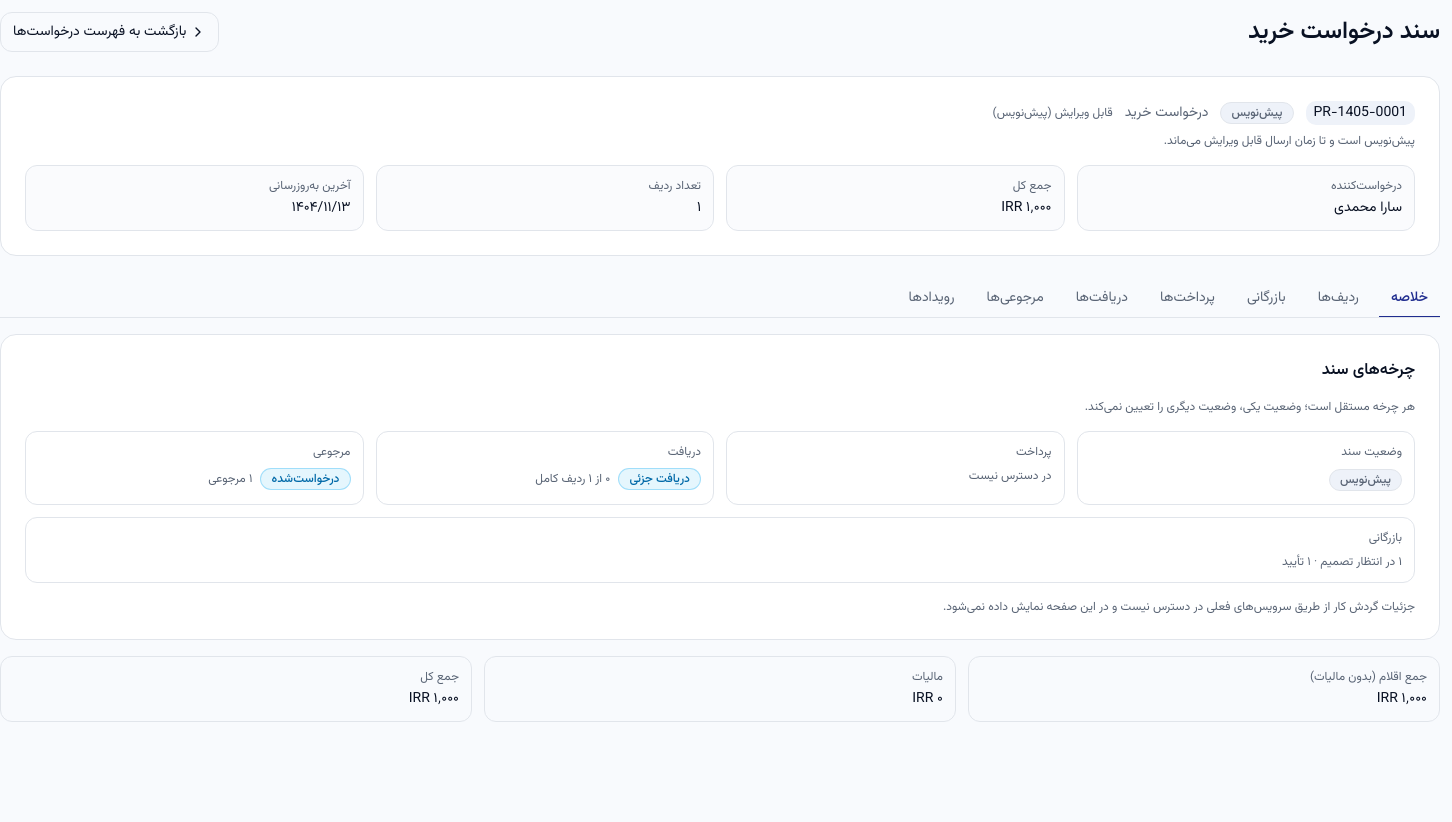
CommercePurchaseDetailView › keeps one section failure inside that section: the document and the rest survive
The image size is (1452, 822).
Expected: the element with test id "commerce-detail-identity" is shown, [0, 76, 1440, 256]
Expected: the text "دریافت جزئی" is shown, [618, 468, 701, 490]
Note: Its own tab renders the full section.
Click the tab with test id "commerce-detail-tab-receipts". click: (1102, 299)
box: [1064, 280, 1140, 318]
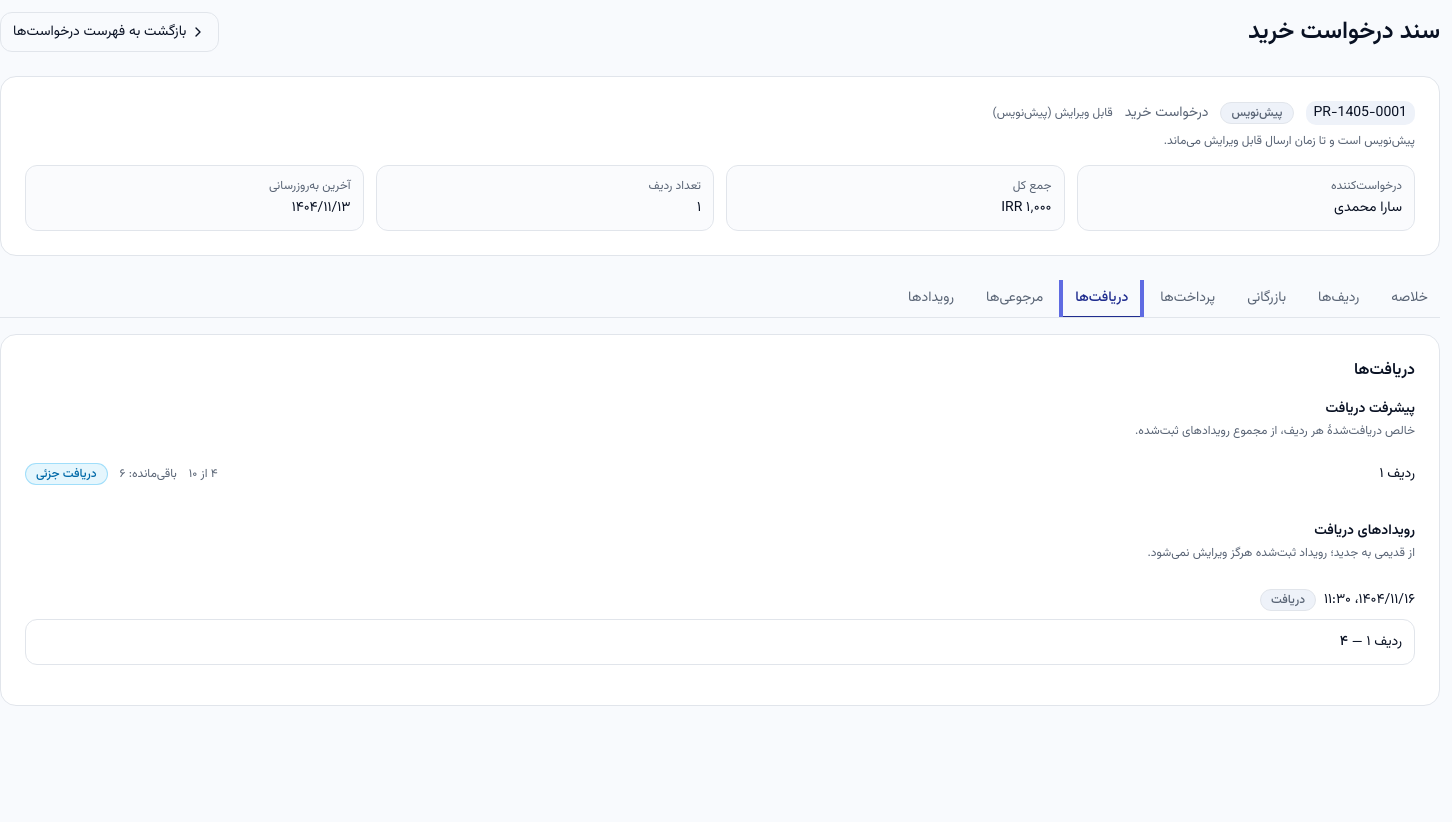
Expected: the list with test id "commerce-receiving-progress" is shown, [25, 463, 1415, 485]
Note: The failing tab carries its OWN retry, and the document stays on screen.
Click the tab with test id "commerce-detail-tab-payments". click: (1188, 299)
box: [1148, 280, 1227, 318]
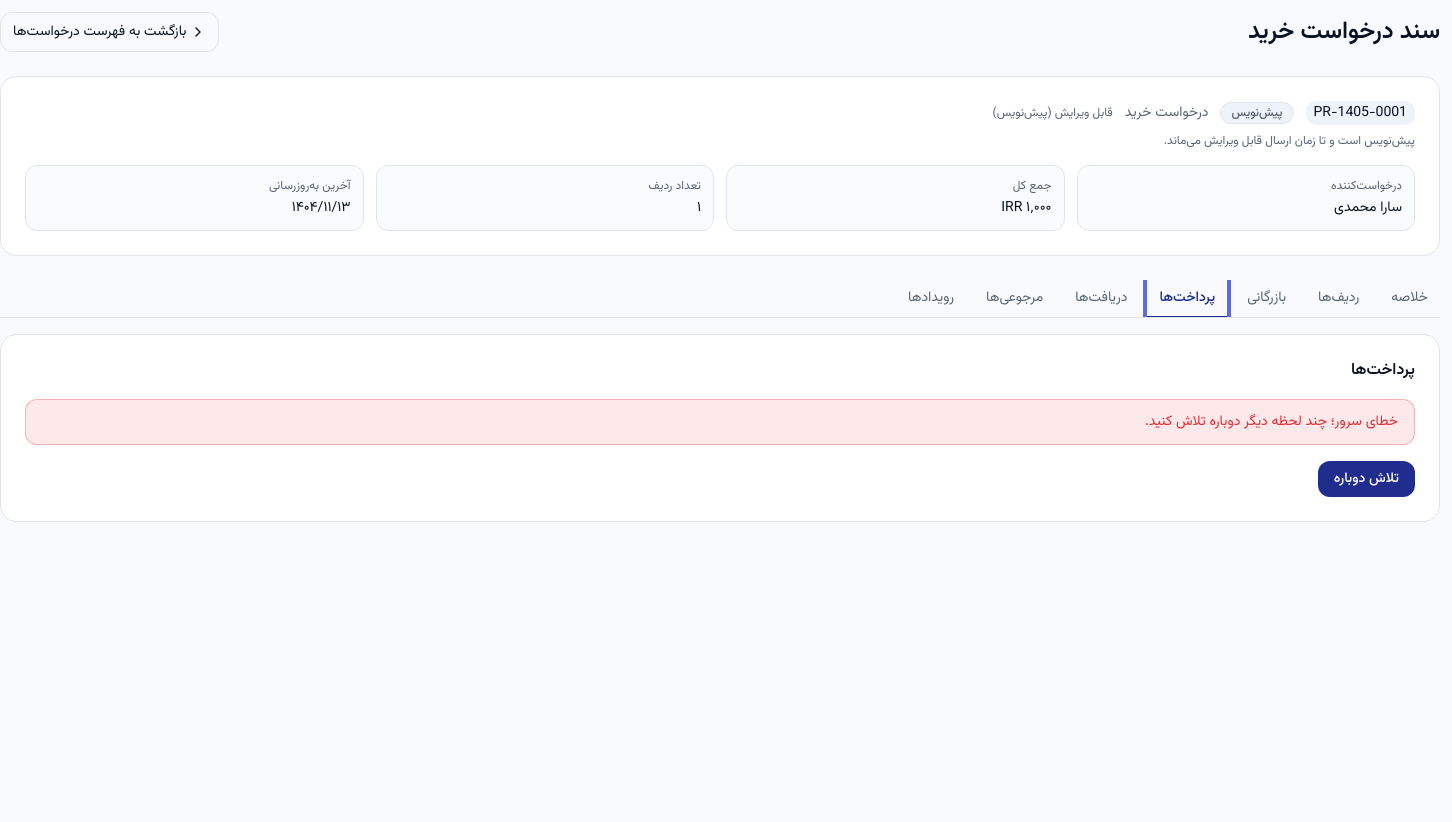
Expected: the element with test id "commerce-detail-identity" is shown, [0, 76, 1440, 256]
Expected: the button "تلاش دوباره" is shown, [1318, 461, 1415, 497]
